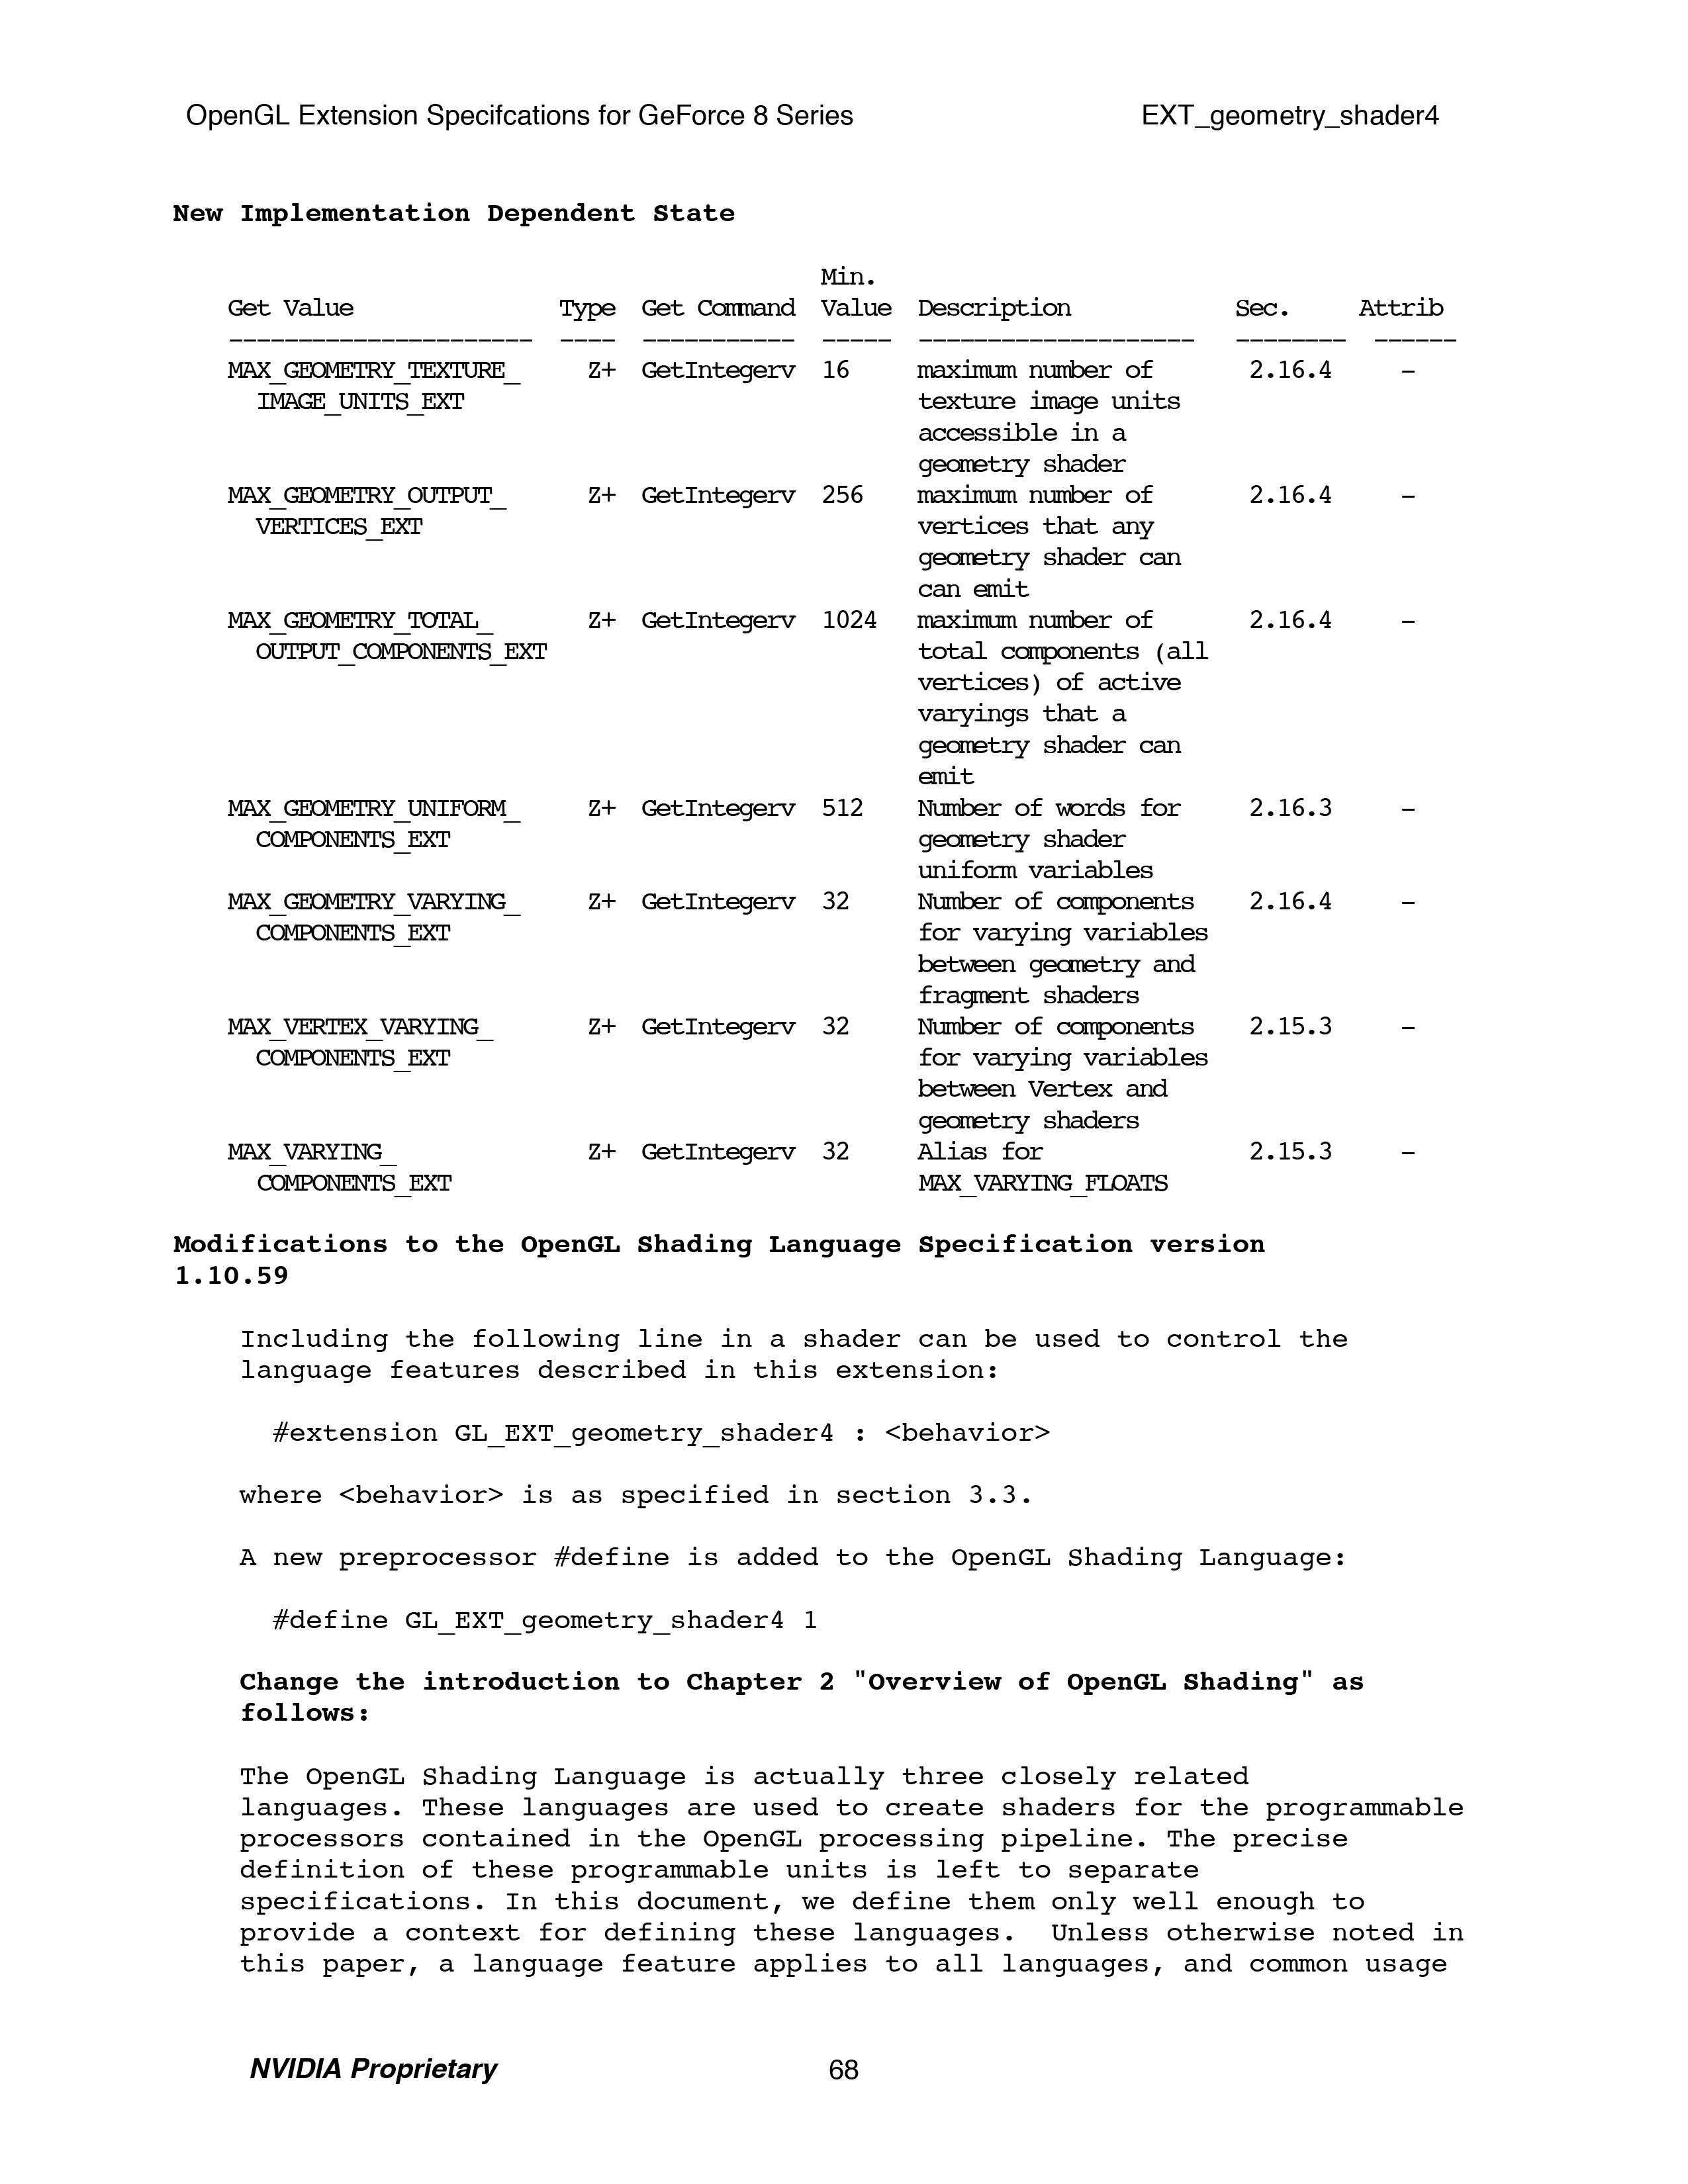section: (144, 1218, 1298, 1312), (152, 190, 752, 253)
table: (190, 262, 1486, 1205)
text: (223, 1324, 1365, 1709), (239, 1759, 1472, 2003), (177, 80, 883, 152)
